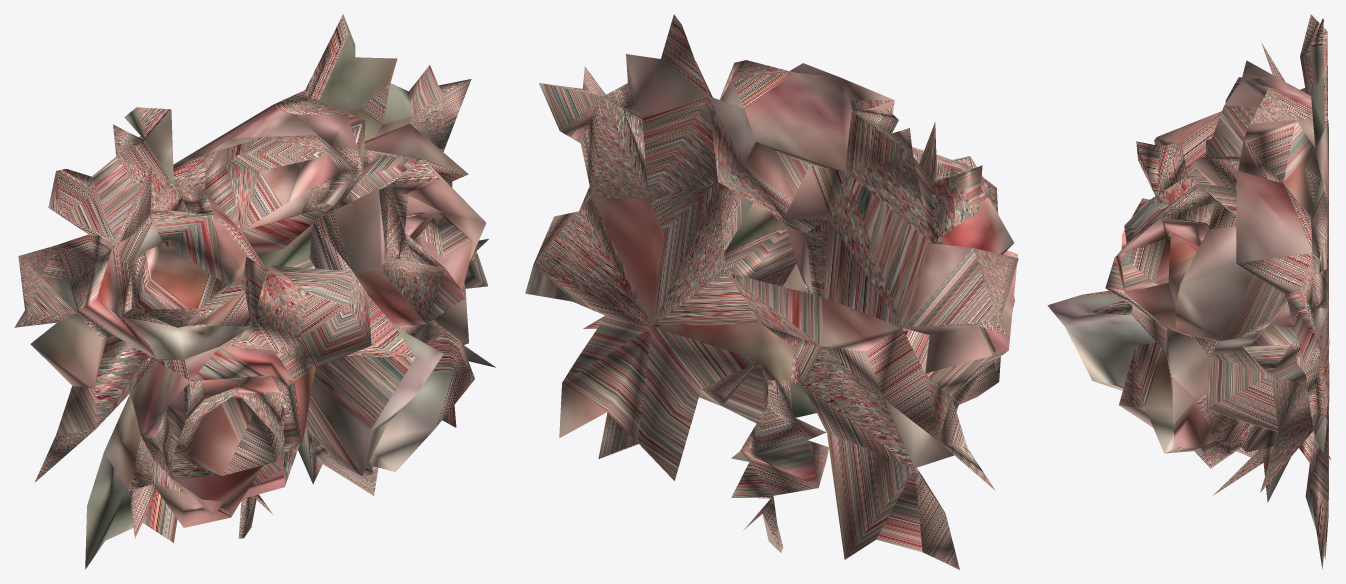
The picture shows the model from 3 angles, left to right: view 1: azimuth 30°, elevation 25°; view 2: azimuth 150°, elevation 25°; view 3: azimuth 270°, elevation 25°; orthographic projection. The views are drawn at different scales.
Visible parts, largest first — view 1: Rose-Bouquet-10-27; view 2: Rose-Bouquet-10-27; view 3: Rose-Bouquet-10-27.
Boxes of the visible parts, x1,y1,x2,y2 form: Rose-Bouquet-10-27: [14, 14, 495, 569]; Rose-Bouquet-10-27: [525, 14, 1018, 569]; Rose-Bouquet-10-27: [1047, 14, 1330, 568].
Size of the model in its own units: 0.3034 by 0.3059 by 0.1587.
Materials: 1 (1 with a texture image).
